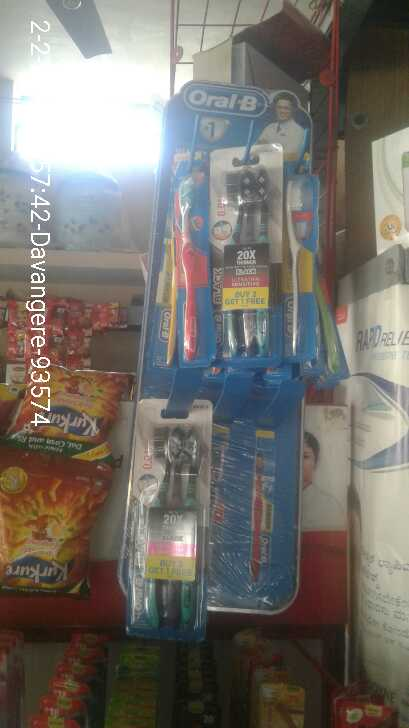oralb: (125, 396, 213, 643), (205, 144, 293, 359), (157, 154, 212, 368)
